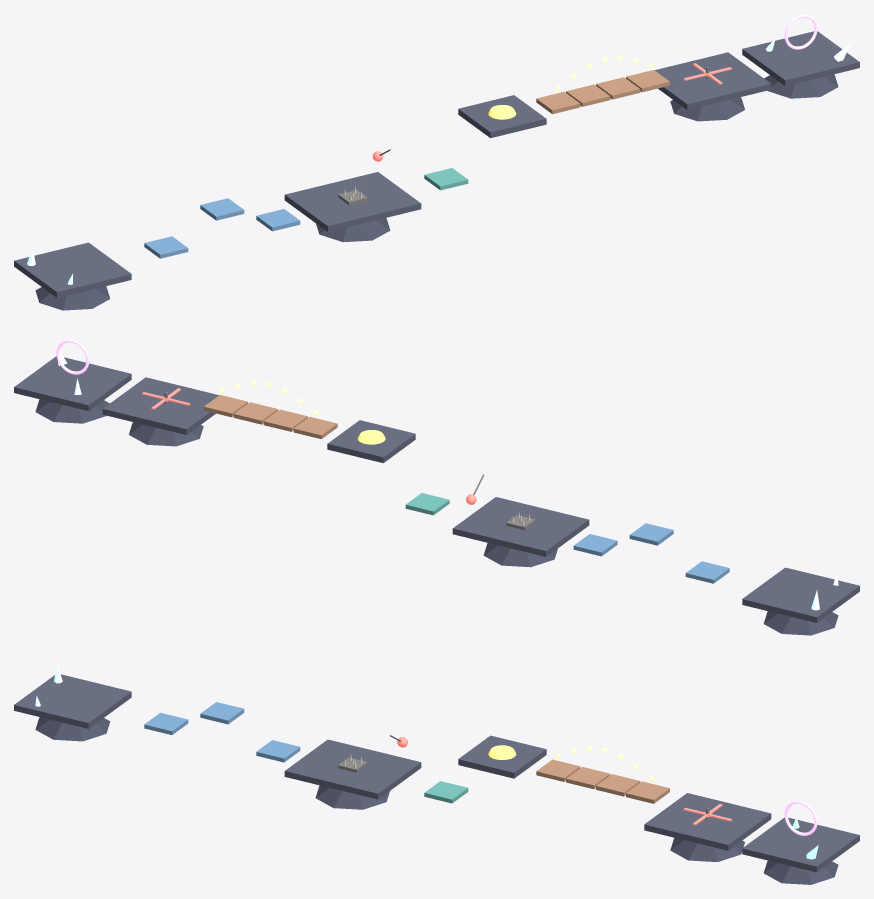
File: bonus_stage.glb
3 views of the same model, one above another, from view 1: azimuth 30°, elevation 25°; view 2: azimuth 150°, elevation 25°; view 3: azimuth 330°, elevation 25° (orthographic).
Parts seen in each view (by area): view 1: InselMitte, InselRotor, InselStart, InselZiel, InselHoch, InselStartFels, InselZielFels, InselRotorFels, InselMitteFels, BewegPlattform1, BewegPlattform2, BewegPlattform3 (+5 smaller); view 2: InselMitte, InselRotor, InselStart, InselZiel, InselHoch, InselStartFels, InselZielFels, InselRotorFels, InselMitteFels, BewegPlattform1, BewegPlattform2, BewegPlattform3 (+5 smaller); view 3: InselMitte, InselRotor, InselStart, InselZiel, InselHoch, InselZielFels, InselStartFels, InselRotorFels, InselMitteFels, StageAufzug, BewegPlattform3, BewegPlattform1 (+5 smaller).
Boxes of the visible parts, x1=… form: InselMitte: x1=284, y1=172, x2=421, y2=231; InselRotor: x1=654, y1=52, x2=771, y2=109; InselStart: x1=14, y1=242, x2=131, y2=297; InselZiel: x1=742, y1=31, x2=859, y2=85; InselHoch: x1=458, y1=95, x2=546, y2=138; InselStartFels: x1=35, y1=286, x2=110, y2=310; InselZielFels: x1=764, y1=74, x2=838, y2=98; InselRotorFels: x1=670, y1=97, x2=744, y2=121; InselMitteFels: x1=316, y1=218, x2=390, y2=242; BewegPlattform1: x1=144, y1=236, x2=188, y2=258; BewegPlattform2: x1=200, y1=198, x2=244, y2=220; BewegPlattform3: x1=256, y1=209, x2=300, y2=231; InselMitte: x1=452, y1=497, x2=589, y2=556; InselRotor: x1=102, y1=377, x2=219, y2=434; InselStart: x1=742, y1=567, x2=859, y2=622; InselZiel: x1=14, y1=356, x2=131, y2=410; InselHoch: x1=327, y1=420, x2=415, y2=463; InselStartFels: x1=763, y1=611, x2=838, y2=635; InselZielFels: x1=35, y1=399, x2=109, y2=423; InselRotorFels: x1=129, y1=422, x2=203, y2=446; InselMitteFels: x1=483, y1=543, x2=557, y2=567; BewegPlattform1: x1=685, y1=561, x2=729, y2=583; BewegPlattform2: x1=629, y1=523, x2=673, y2=545; BewegPlattform3: x1=573, y1=534, x2=617, y2=556; InselMitte: x1=284, y1=739, x2=421, y2=799; InselRotor: x1=644, y1=793, x2=771, y2=850; InselStart: x1=14, y1=674, x2=131, y2=728; InselZiel: x1=742, y1=817, x2=859, y2=872; InselHoch: x1=458, y1=735, x2=546, y2=778; InselZielFels: x1=764, y1=860, x2=838, y2=884; InselStartFels: x1=35, y1=717, x2=110, y2=741; InselRotorFels: x1=670, y1=838, x2=744, y2=861; InselMitteFels: x1=315, y1=785, x2=389, y2=809; StageAufzug: x1=424, y1=781, x2=468, y2=803; BewegPlattform3: x1=256, y1=740, x2=300, y2=762; BewegPlattform1: x1=144, y1=712, x2=188, y2=734.
Bounding box in the file's own units: 86 × 11.15 × 8.
